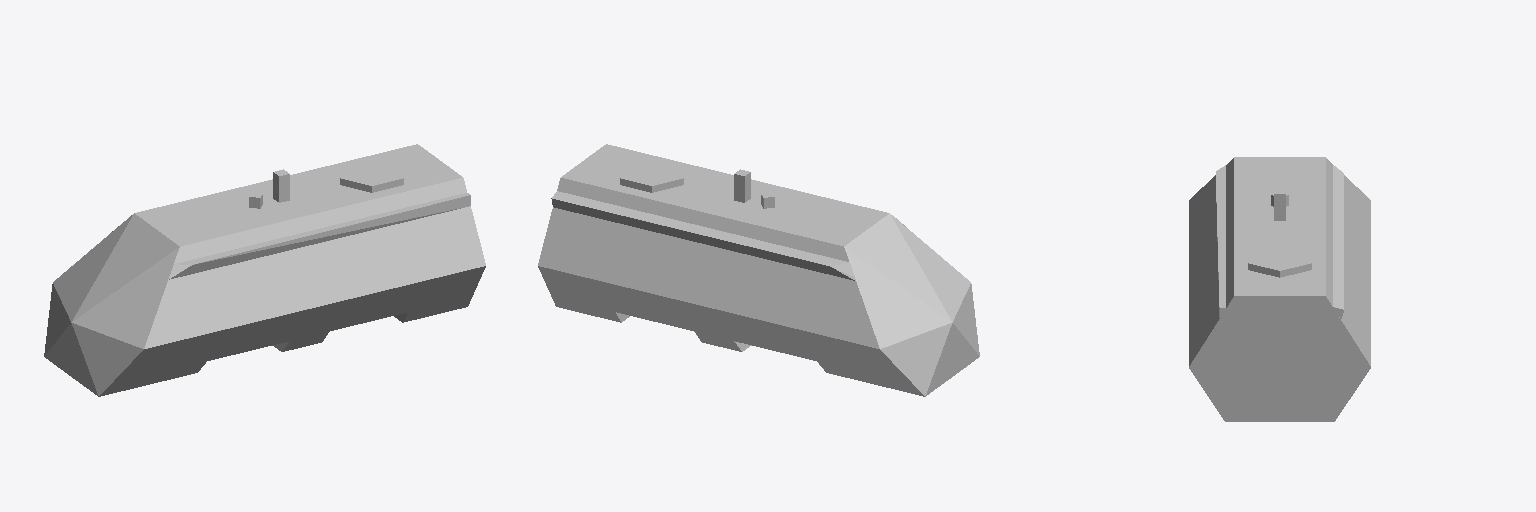
File: engine.obj
3 views of the same model, side by side, from view 1: azimuth 30°, elevation 25°; view 2: azimuth 150°, elevation 25°; view 3: azimuth 270°, elevation 25° (orthographic).
Visible parts, largest first — view 1: engine; view 2: engine; view 3: engine.
Boxes of the visible parts, box(x1,y1,x2,y2) form: engine: box(44, 144, 485, 396); engine: box(538, 144, 979, 396); engine: box(1189, 157, 1370, 421).
Bounding box in the file's own units: 7 × 2.79 × 3.